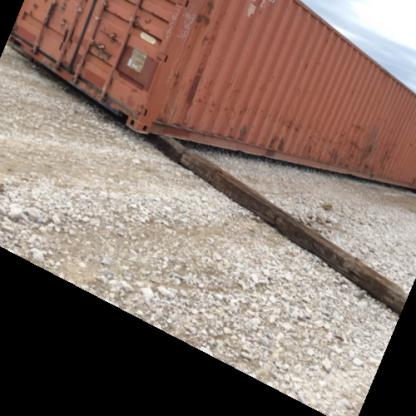Damage: (319, 122, 387, 160), (181, 38, 214, 113), (257, 117, 292, 160), (60, 40, 89, 87), (186, 0, 218, 34), (294, 127, 319, 160), (226, 114, 255, 142)
